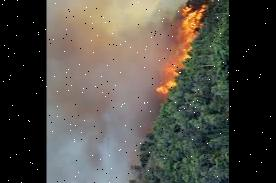fire: (146, 0, 210, 98)
